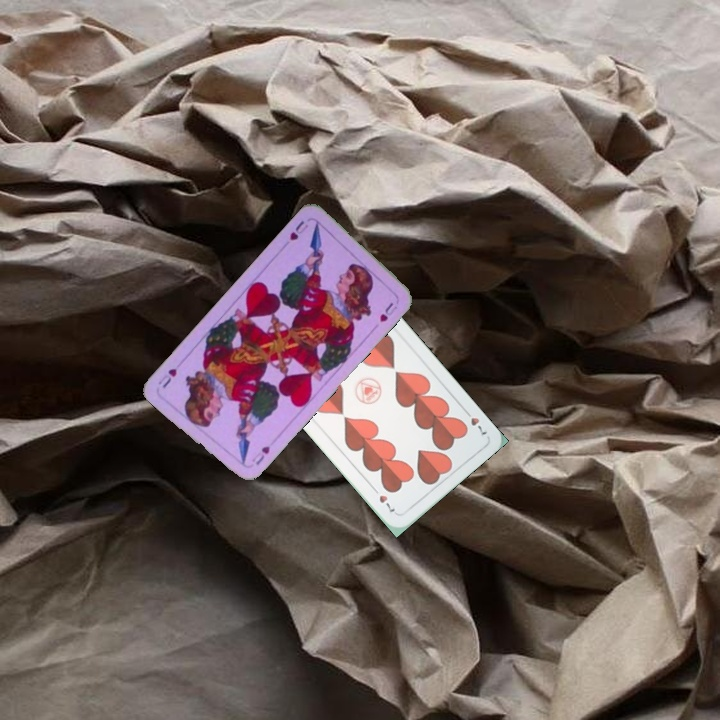H7: (459, 405, 489, 438)
HU: (280, 217, 311, 249), (252, 442, 272, 467)
